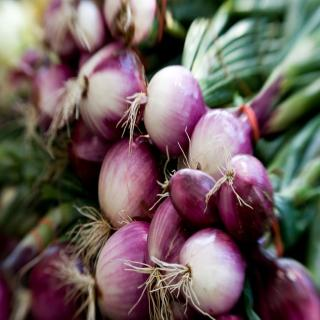Bawang Merah: (3, 2, 320, 320)
